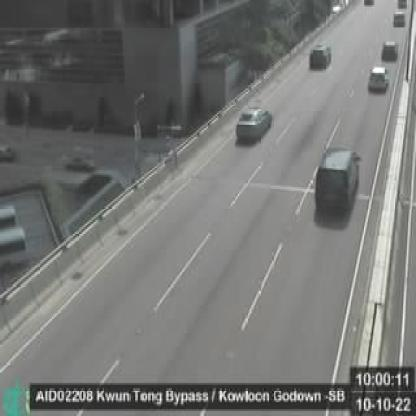Car: (316, 147, 362, 213), (236, 105, 273, 144), (308, 41, 332, 69), (368, 65, 388, 91), (384, 41, 398, 62), (395, 10, 406, 28)
